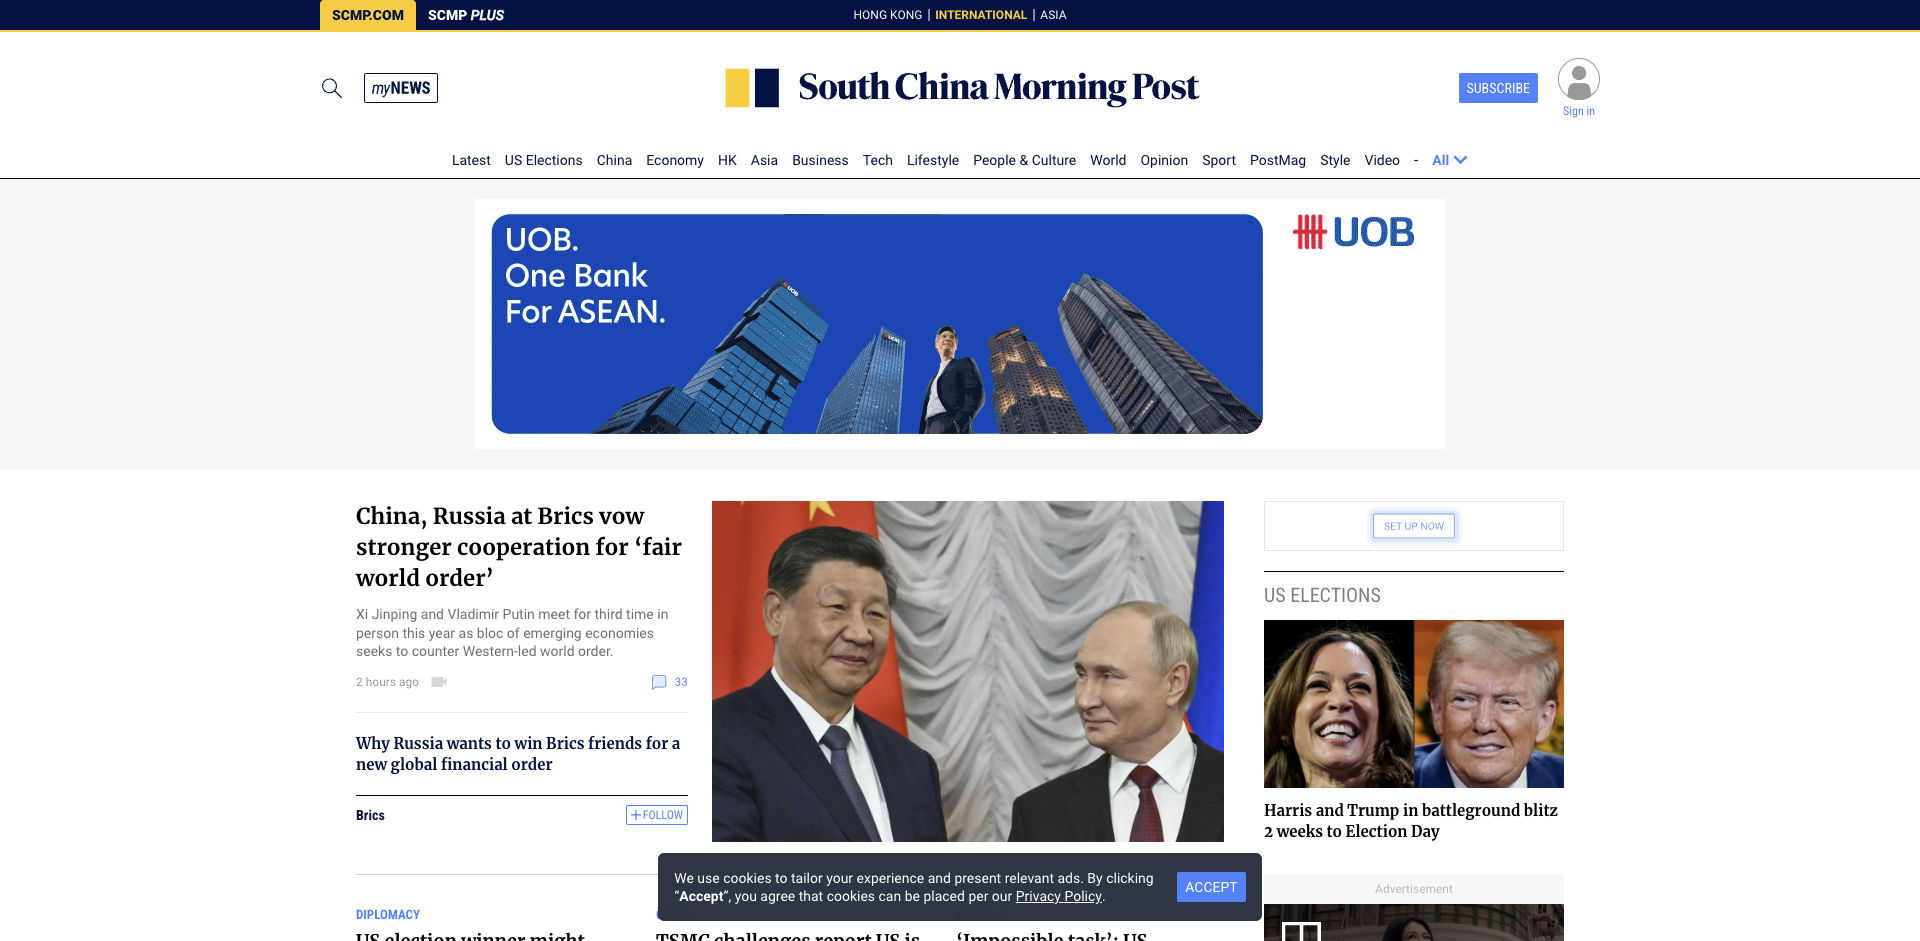button: (1458, 74, 1538, 103), (1177, 872, 1245, 902), (626, 805, 688, 825)
link: (711, 501, 1224, 842), (1264, 620, 1564, 842), (356, 501, 688, 660), (720, 62, 1200, 113), (356, 733, 688, 776), (356, 929, 624, 941), (656, 929, 924, 941), (956, 929, 1224, 941), (416, 0, 516, 29), (320, 0, 416, 29), (364, 74, 438, 103), (973, 152, 1076, 168), (1016, 887, 1102, 905), (504, 152, 583, 168), (647, 152, 704, 168), (792, 152, 849, 168), (1250, 152, 1307, 168), (356, 908, 420, 921), (907, 152, 959, 168), (1140, 152, 1188, 168), (956, 908, 1010, 921), (452, 152, 491, 168), (320, 76, 344, 100), (1090, 152, 1127, 168), (651, 674, 688, 690), (596, 152, 632, 168), (1364, 152, 1400, 168), (1202, 152, 1236, 168), (1320, 152, 1351, 168), (863, 152, 893, 168), (656, 908, 691, 921), (356, 807, 384, 823), (751, 152, 778, 168), (718, 152, 737, 168)
